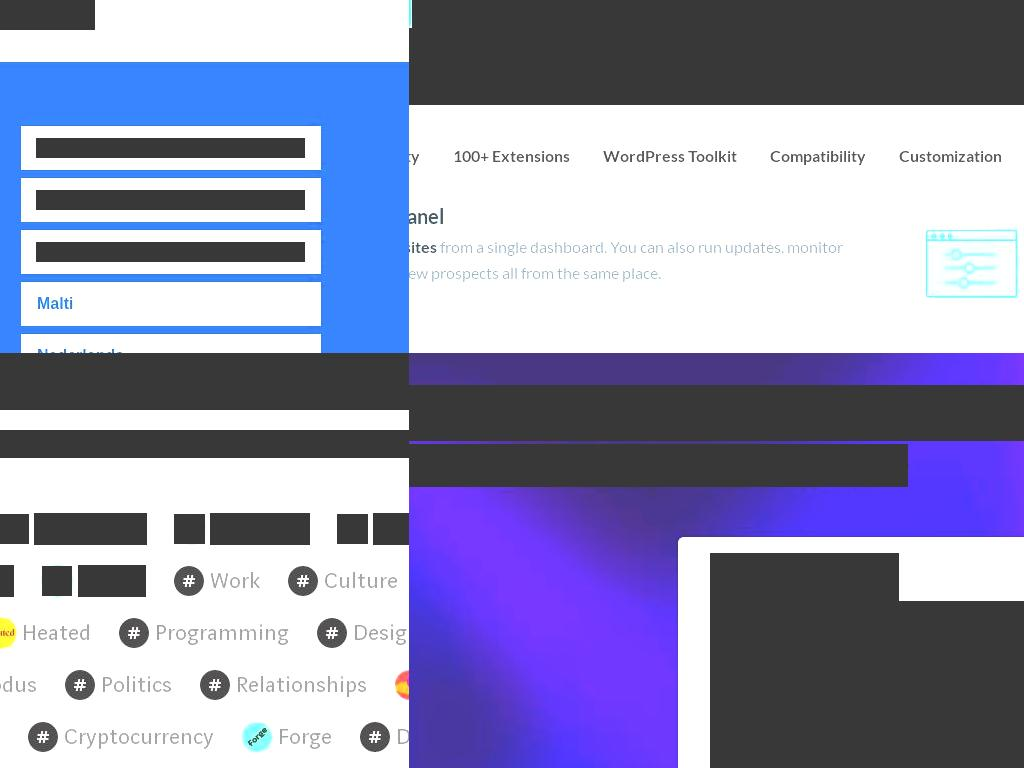button: (710, 553, 899, 601), (587, 135, 753, 177), (437, 135, 586, 177), (883, 135, 1018, 177), (754, 135, 882, 177), (409, 135, 436, 177)
heading: (409, 385, 1024, 441), (409, 203, 879, 229), (0, 430, 409, 458), (758, 553, 899, 585)
image: (409, 0, 1024, 105), (710, 601, 1024, 768), (533, 0, 1024, 105), (908, 193, 1024, 307), (710, 553, 742, 585), (174, 514, 205, 544), (337, 514, 368, 544), (27, 722, 58, 752), (241, 722, 272, 752), (359, 722, 390, 752), (42, 566, 72, 596), (174, 566, 204, 596), (288, 566, 318, 596), (119, 618, 149, 648), (317, 618, 347, 648), (65, 670, 95, 700), (200, 670, 230, 700), (0, 514, 29, 544), (0, 618, 16, 648), (395, 670, 409, 700)
link: (36, 138, 305, 158), (36, 190, 305, 210), (36, 242, 305, 262), (36, 294, 305, 314), (36, 346, 305, 353)
text: (409, 444, 908, 487), (409, 237, 843, 282), (409, 71, 1024, 90), (63, 721, 214, 753), (155, 617, 289, 649), (236, 669, 367, 701), (34, 513, 147, 545), (210, 513, 310, 545), (324, 565, 398, 597), (101, 669, 172, 701), (22, 617, 91, 649), (78, 565, 146, 597), (353, 617, 409, 649), (277, 721, 332, 753), (210, 565, 260, 597), (0, 669, 37, 701), (373, 513, 409, 545)
